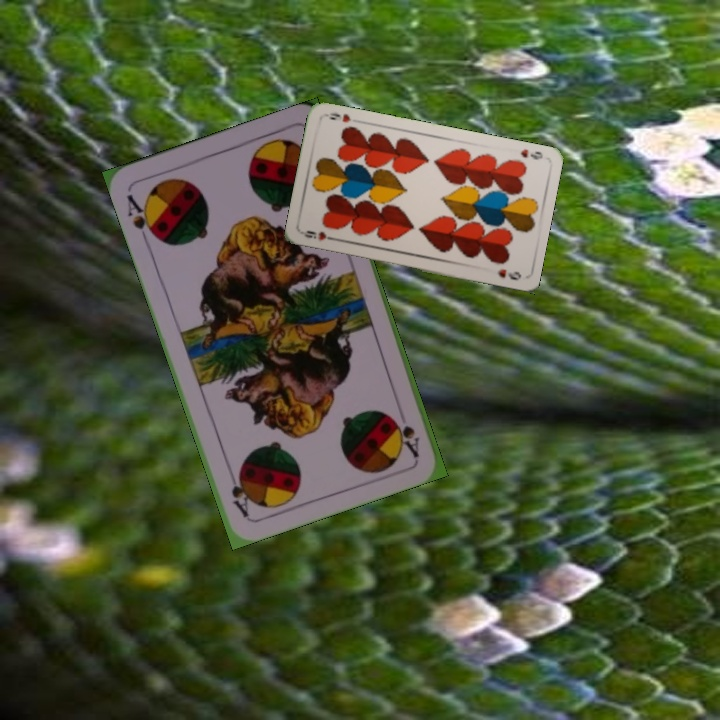H9: (299, 227, 339, 244), (517, 145, 545, 163)
SA: (123, 190, 160, 246), (391, 415, 423, 459)
